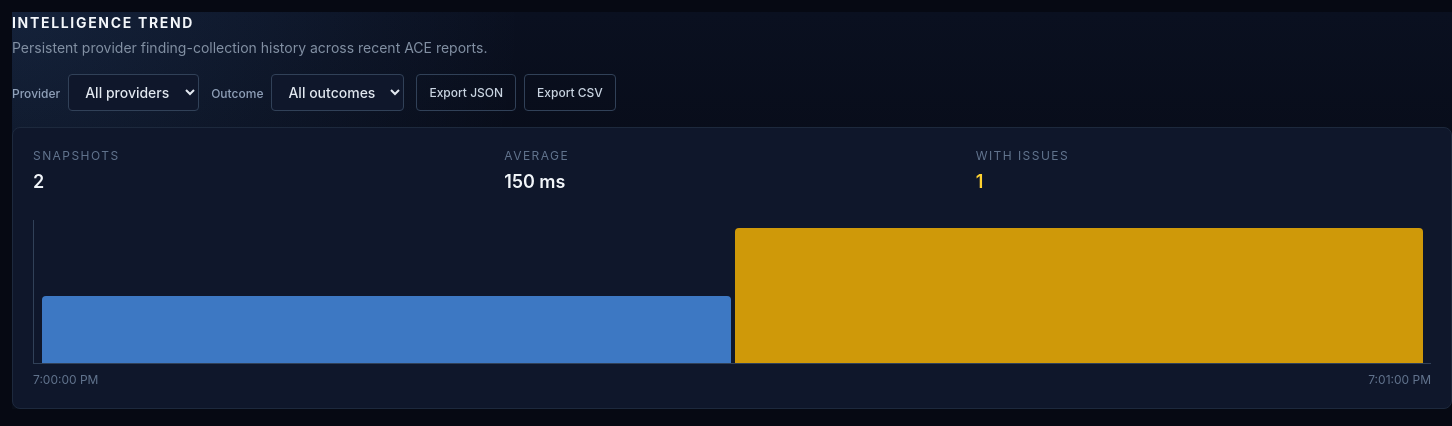
Test: IntelligenceTrendSection › filters snapshots by provider and outcome
The image size is (1452, 426).
Select "Qdrant" in the dropdown labelled "Provider" at [134, 92], box [68,74,199,111]
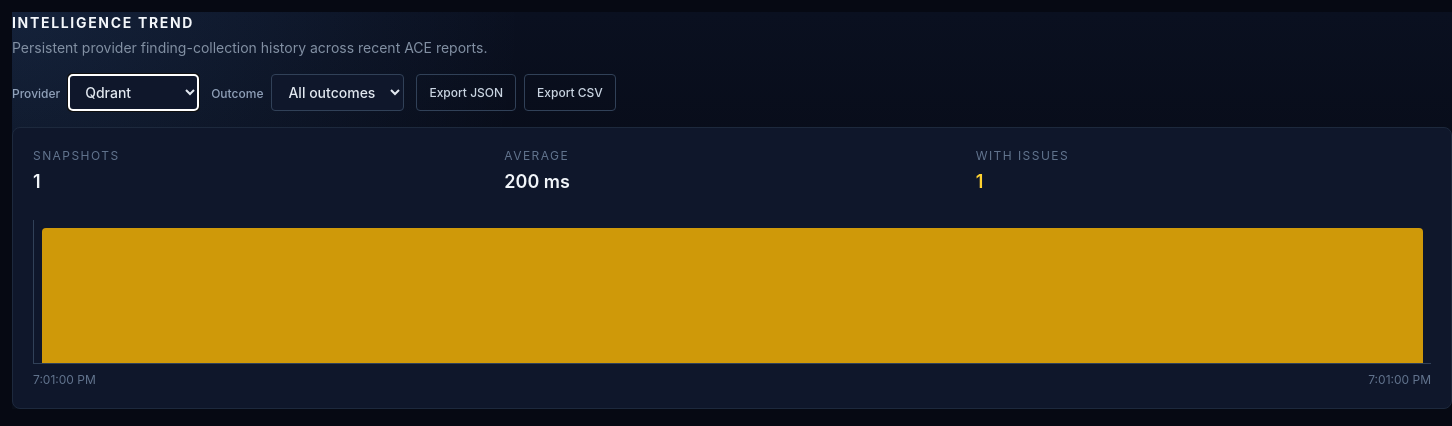
Select "Completed" in the dropdown labelled "Outcome" at [338, 92], box [271,74,404,111]
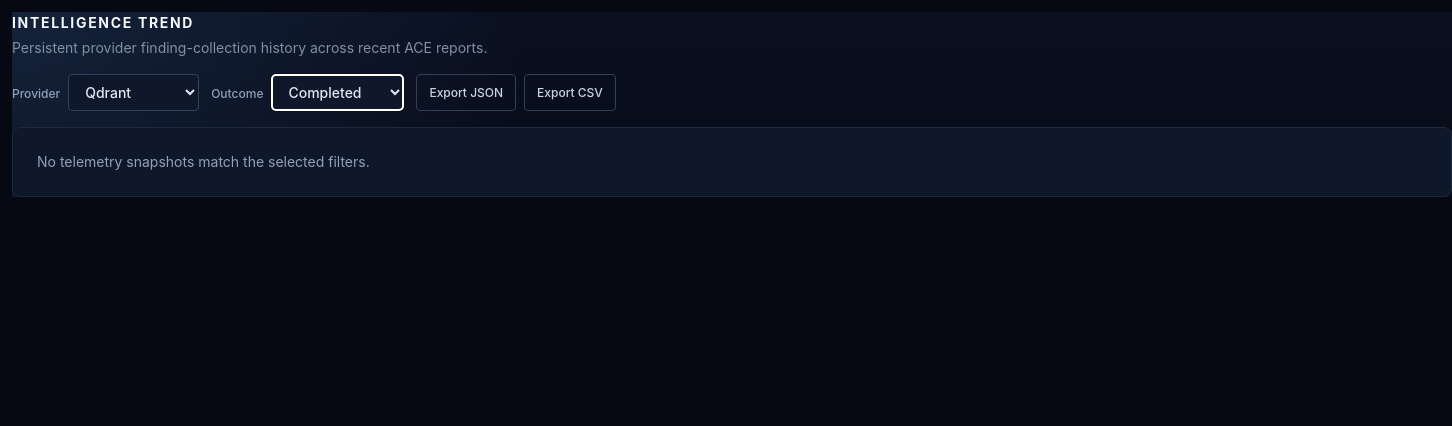
expect the text "No telemetry snapshots match the selected filters." is shown: met, box [12,127,1451,197]
Select "Timed out" in the dropdown labelled "Outcome" at [338, 92], box [271,74,404,111]
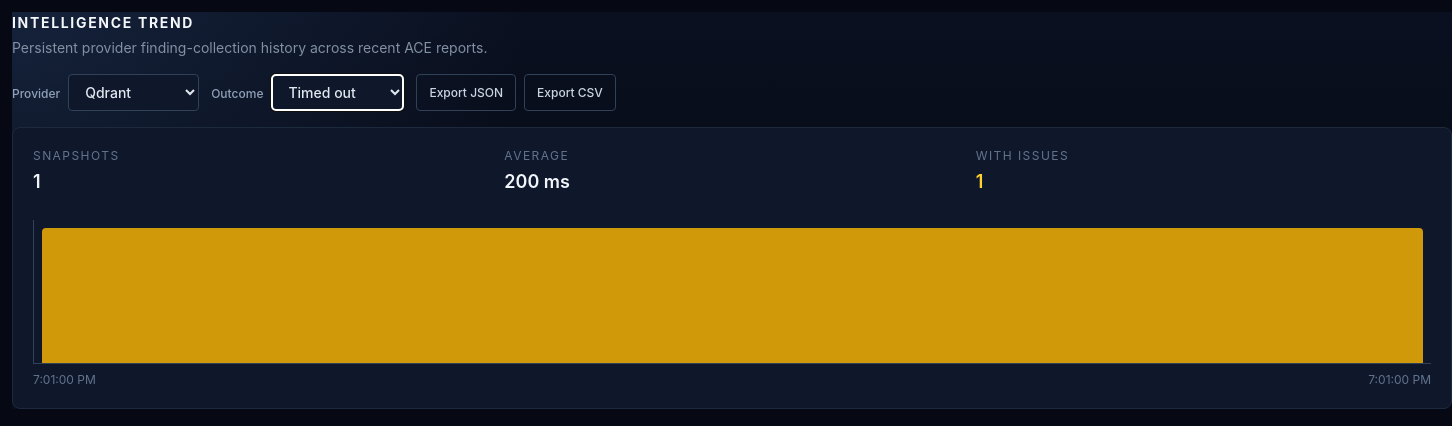
expect the element named "200 ms, provider issue" is shown: met, box [42,228,1423,363]
